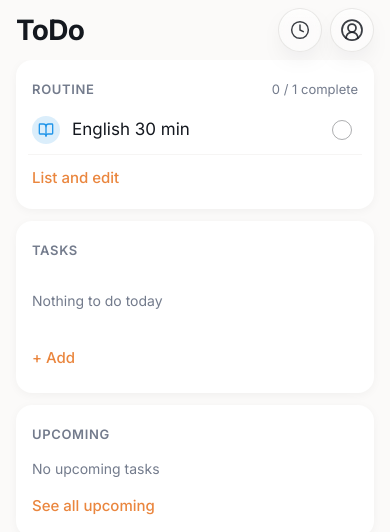
Test: Phase 14-A ToDo › 16. List and edit navigates to the routine list
Click the button with test id "todo-routine-list-edit". click: click(76, 178)
box: 28,158 -> 123,197
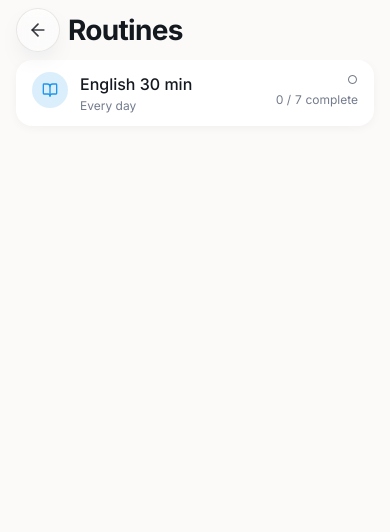
Now the heading "Routines" is shown, box 68,9 -> 183,51
Now the button with test id "routine-list-row" shows "English 30 min", box 16,60 -> 374,126
